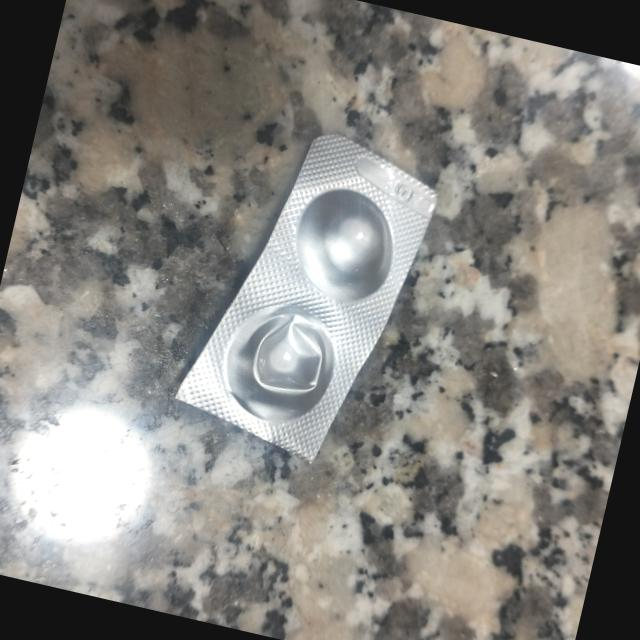blister: (173, 132, 440, 463)
